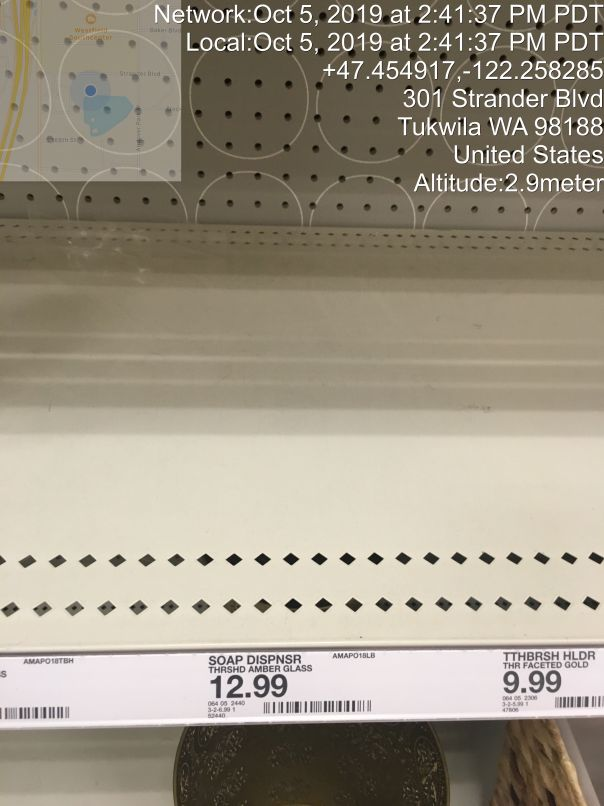Label: (192, 649, 392, 726)
Location: (395, 82, 604, 170)
Time: (147, 3, 604, 56)
Void: (13, 95, 604, 589)
